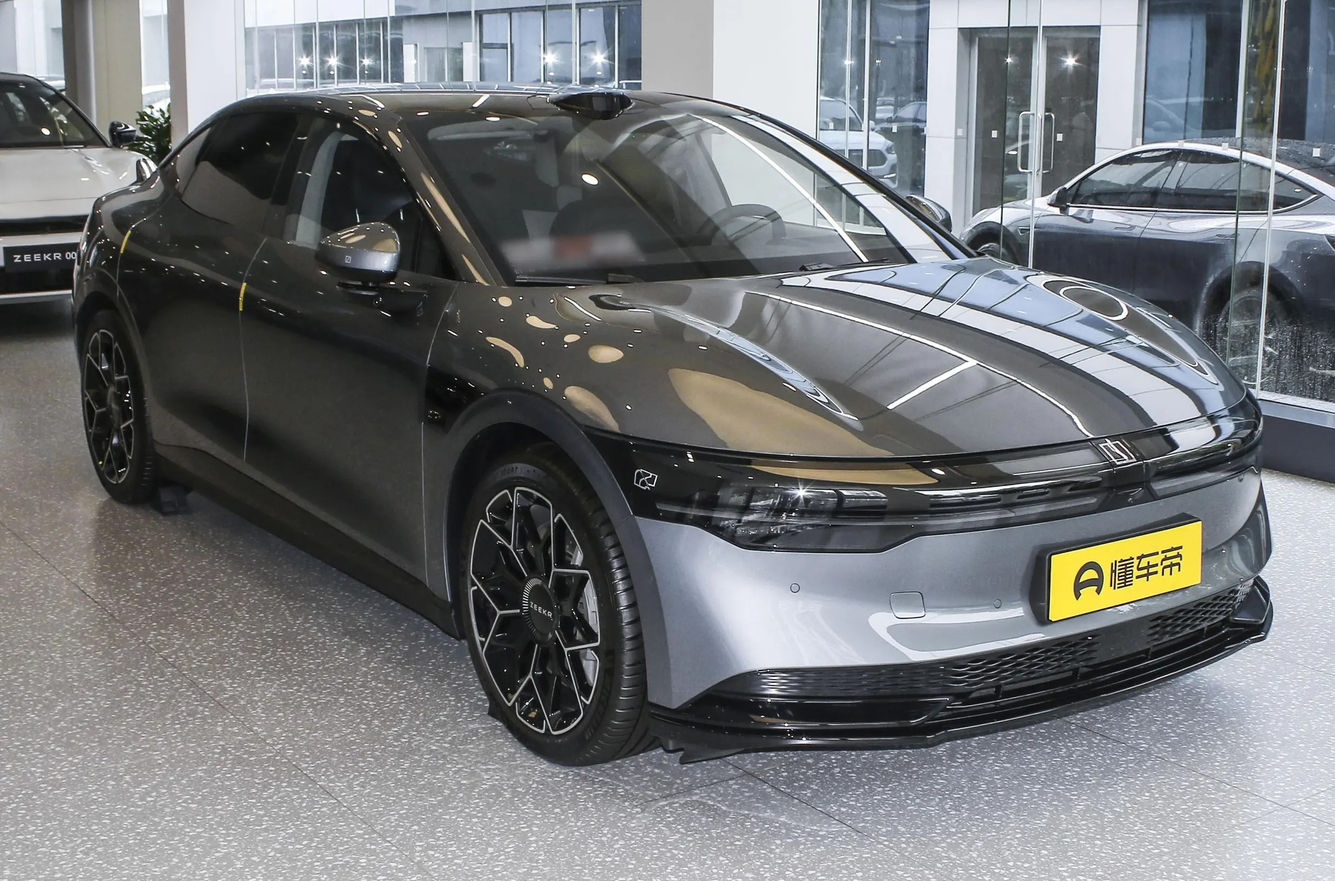ZEEKR: (1099, 441, 1136, 465)
